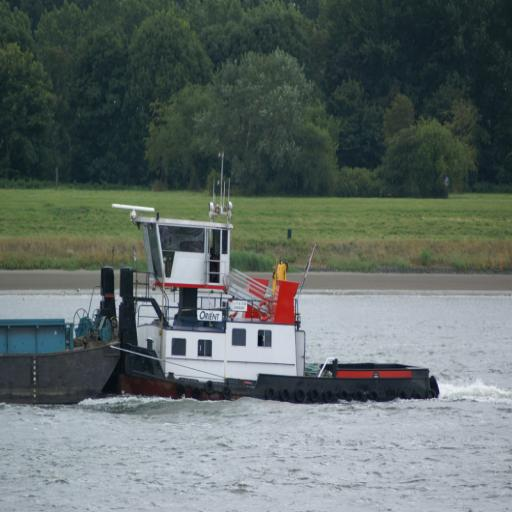tugboat: (98, 194, 445, 415)
